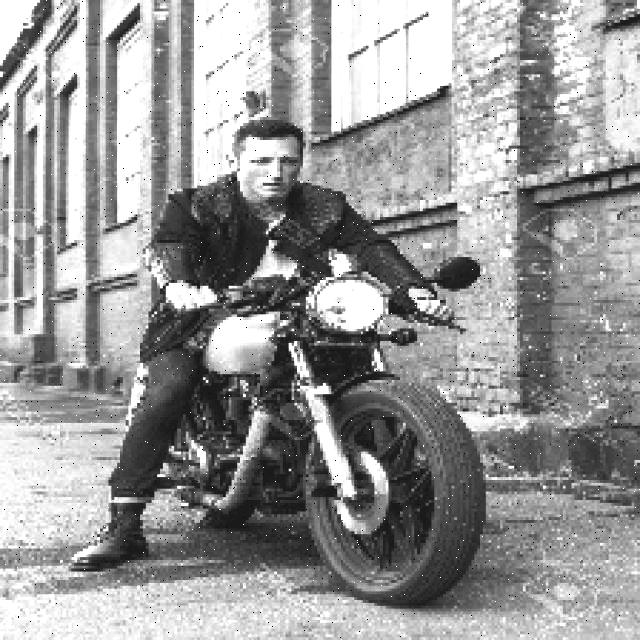Bike: (169, 265, 489, 605)
